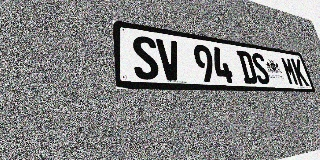4: (210, 46, 234, 83)
9: (192, 44, 217, 82)
D: (236, 50, 259, 84)
K: (290, 58, 309, 86)
M: (280, 57, 299, 86)
S: (131, 35, 160, 80), (250, 52, 271, 84)
V: (156, 38, 183, 81)
